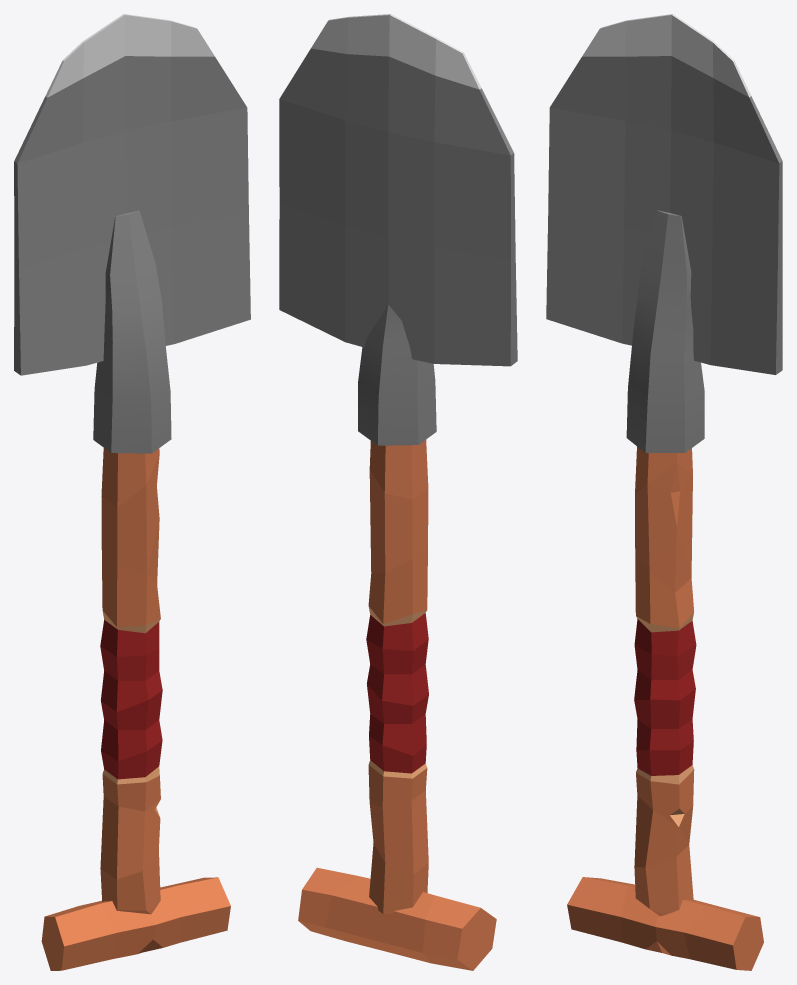
The model's file is shovel.glb.
3 renders of one model, left to right at view 1: azimuth 30°, elevation 25°; view 2: azimuth 150°, elevation 25°; view 3: azimuth 330°, elevation 25°, orthographic.
Visible parts, largest first — view 1: DirtMover_Shovel; view 2: DirtMover_Shovel; view 3: DirtMover_Shovel.
Boxes of the visible parts, x1,y1,x2,y2 form: DirtMover_Shovel: (14,14,250,970); DirtMover_Shovel: (279,14,517,970); DirtMover_Shovel: (546,14,782,970).
Bounding box in the file's own units: 0.6396 × 2.49 × 0.1906.
Materials: 1 (1 with a texture image).
